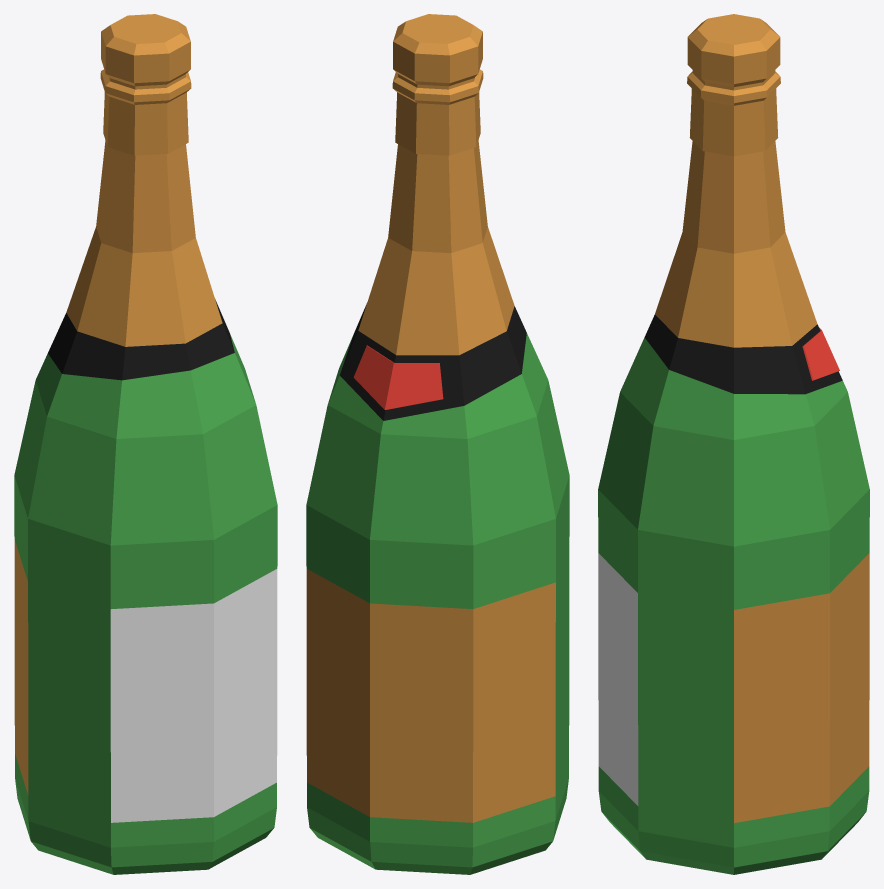
File: Bottle_of_Champagne_01.obj
The picture shows the model from 3 angles, left to right: view 1: azimuth 30°, elevation 25°; view 2: azimuth 150°, elevation 25°; view 3: azimuth 270°, elevation 25°; orthographic projection.
Visible parts, largest first — view 1: Bottle_of_Champagne_Circle.009; view 2: Bottle_of_Champagne_Circle.009; view 3: Bottle_of_Champagne_Circle.009.
Part boxes in pixels (<box>): Bottle_of_Champagne_Circle.009: <box>14,14,277,874</box>; Bottle_of_Champagne_Circle.009: <box>306,14,569,874</box>; Bottle_of_Champagne_Circle.009: <box>598,14,869,874</box>.
Size of the model in its own units: 3.1 by 9.98 by 3.1.
